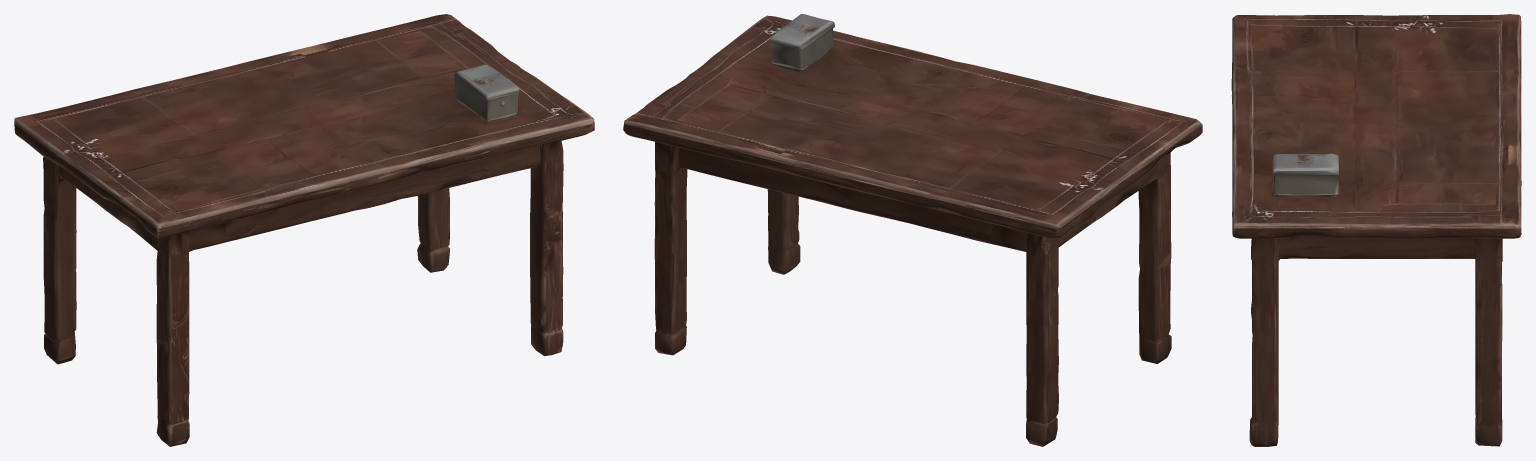
Rendered from level1-office-desk.glb.
The picture shows the model from 3 angles, left to right: view 1: azimuth 30°, elevation 25°; view 2: azimuth 150°, elevation 25°; view 3: azimuth 270°, elevation 25°; orthographic projection.
Visible parts, largest first — view 1: tripo_node_d73a04ce-5d92-4eb7-bc1d-854ee93be46e; view 2: tripo_node_d73a04ce-5d92-4eb7-bc1d-854ee93be46e; view 3: tripo_node_d73a04ce-5d92-4eb7-bc1d-854ee93be46e.
Part boxes in pixels (x1,y1,x2,y2): tripo_node_d73a04ce-5d92-4eb7-bc1d-854ee93be46e: (14, 14, 594, 446); tripo_node_d73a04ce-5d92-4eb7-bc1d-854ee93be46e: (623, 14, 1202, 446); tripo_node_d73a04ce-5d92-4eb7-bc1d-854ee93be46e: (1231, 14, 1521, 446).
Size of the model in its own units: 0.9803 by 0.5703 by 0.5671.
1 material, 1 textured.
